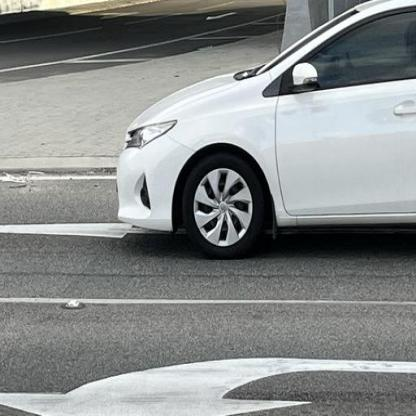Tire: (180, 152, 266, 260)
